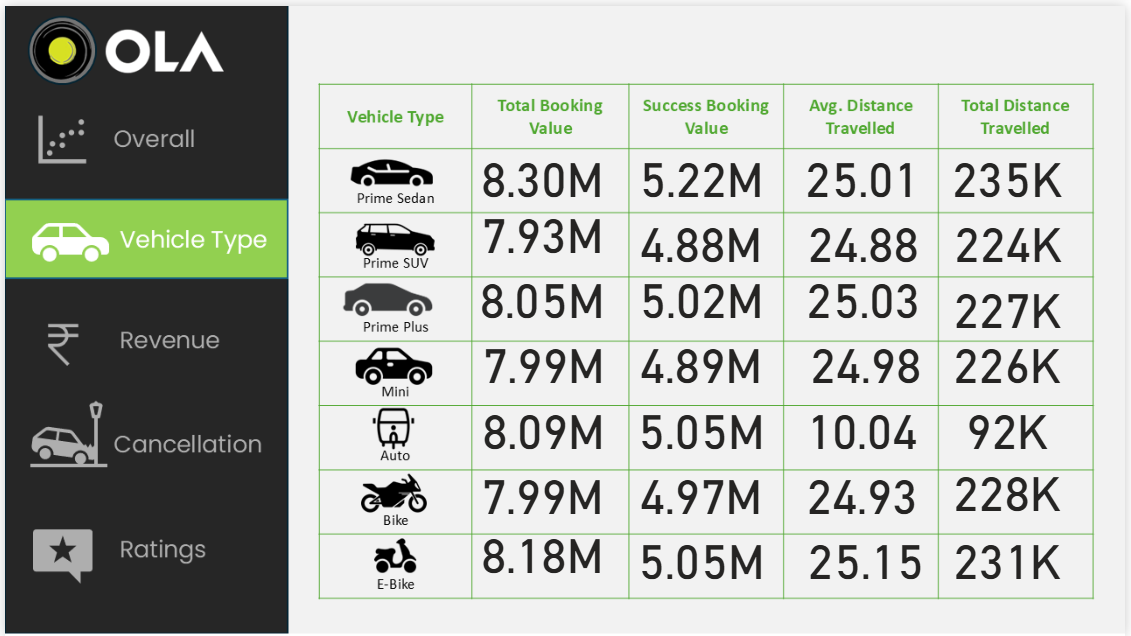

What the dashboard file says about the page in this screenshot:
{"tool":"powerbi","page":{"name":"Vehicle Type","canvas":[1280,720],"ordinal":1},"visuals":[{"type":"actionButton","box":[0,108.1,322.8,116.6],"z":0},{"type":"actionButton","box":[0,315.7,322.8,116.6],"z":1000},{"type":"actionButton","box":[1.4,432.4,322.8,116.6],"z":2000},{"type":"actionButton","box":[0,549,322.8,170.7],"z":3000},{"type":"card","fields":{"Values":["Sum(Bookings (2).Booking_Value)"]},"box":[532.2,165.5,162,74.8],"z":4000},{"type":"card","fields":{"Values":["Sum(Bookings (2).Booking_Value)"]},"box":[532.2,229.6,162,74.8],"z":5000},{"type":"card","fields":{"Values":["Sum(Bookings (2).Booking_Value)"]},"box":[532.2,304.3,162,74.8],"z":6000},{"type":"card","fields":{"Values":["Sum(Bookings (2).Booking_Value)"]},"box":[533.9,379.1,162,74.8],"z":7000},{"type":"card","fields":{"Values":["Sum(Bookings (2).Booking_Value)"]},"box":[533.9,453.8,162,74.8],"z":8000},{"type":"card","fields":{"Values":["Sum(Bookings (2).Booking_Value)"]},"box":[532.2,528.6,162,74.8],"z":9000},{"type":"card","fields":{"Values":["Sum(Bookings (2).Booking_Value)"]},"box":[532.2,596.2,162,74.8],"z":10000},{"type":"card","fields":{"Values":["Sum(Bookings (2).Booking_Value)"]},"box":[713.7,165.5,162,74.8],"z":11000},{"type":"card","fields":{"Values":["Sum(Bookings (2).Booking_Value)"]},"box":[713.7,304.3,162,74.8],"z":12000},{"type":"card","fields":{"Values":["Sum(Bookings (2).Booking_Value)"]},"box":[713.7,379.1,162,74.8],"z":13000},{"type":"card","fields":{"Values":["Sum(Bookings (2).Booking_Value)"]},"box":[713.7,453.8,162,74.8],"z":14000},{"type":"card","fields":{"Values":["Sum(Bookings (2).Booking_Value)"]},"box":[713.7,603.3,162,74.8],"z":15000},{"type":"card","fields":{"Values":["Sum(Bookings (2).Booking_Value)"]},"box":[713.7,240.3,162,74.8],"z":16000},{"type":"card","fields":{"Values":["Sum(Bookings (2).Booking_Value)"]},"box":[713.7,528.6,162,74.8],"z":17000},{"type":"card","fields":{"Values":["Avg(Bookings (2).Ride_Distance)"]},"box":[898.8,165.5,162,74.8],"z":18000},{"type":"card","fields":{"Values":["Avg(Bookings (2).Ride_Distance)"]},"box":[902.4,379.1,162,74.8],"z":19000},{"type":"card","fields":{"Values":["Avg(Bookings (2).Ride_Distance)"]},"box":[898.8,453.8,162,74.8],"z":20000},{"type":"card","fields":{"Values":["Avg(Bookings (2).Ride_Distance)"]},"box":[898.8,528.6,162,74.8],"z":21000},{"type":"card","fields":{"Values":["Avg(Bookings (2).Ride_Distance)"]},"box":[902.4,603.3,162,74.8],"z":22000},{"type":"card","fields":{"Values":["Avg(Bookings (2).Ride_Distance)"]},"box":[900.6,304.3,162,74.8],"z":23000},{"type":"card","fields":{"Values":["Avg(Bookings (2).Ride_Distance)"]},"box":[900.6,240.3,162,74.8],"z":24000},{"type":"card","fields":{"Values":["Sum(Bookings (2).Ride_Distance)"]},"box":[1064.3,165.5,162,74.8],"z":25000},{"type":"card","fields":{"Values":["Sum(Bookings (2).Ride_Distance)"]},"box":[1048.3,240.3,195.8,74.8],"z":26000},{"type":"card","fields":{"Values":["Sum(Bookings (2).Ride_Distance)"]},"box":[1048.3,315,194,74.8],"z":27000},{"type":"card","fields":{"Values":["Sum(Bookings (2).Ride_Distance)"]},"box":[1064.3,379.1,162,74.8],"z":28000},{"type":"card","fields":{"Values":["Sum(Bookings (2).Ride_Distance)"]},"box":[1064.3,453.8,162,74.8],"z":29000},{"type":"card","fields":{"Values":["Sum(Bookings (2).Ride_Distance)"]},"box":[1064.3,528.6,162,67.6],"z":30000},{"type":"card","fields":{"Values":["Sum(Bookings (2).Ride_Distance)"]},"box":[1064.3,603.3,162,74.8],"z":31000}]}

Visuals, with their boxes on the page's 1280x720 design canvas (x1, y1, x2, y2). These are canvas units, not pixel positions in the 1131x636 screenshot, which may show the page scaled, cropped or inside an application window:
actionButton: locate(0, 108, 323, 225)
actionButton: locate(0, 316, 323, 432)
actionButton: locate(1, 432, 324, 549)
actionButton: locate(0, 549, 323, 720)
card - Sum(Bookings (2).Booking_Value): locate(532, 166, 694, 240)
card - Sum(Bookings (2).Booking_Value): locate(532, 230, 694, 304)
card - Sum(Bookings (2).Booking_Value): locate(532, 304, 694, 379)
card - Sum(Bookings (2).Booking_Value): locate(534, 379, 696, 454)
card - Sum(Bookings (2).Booking_Value): locate(534, 454, 696, 529)
card - Sum(Bookings (2).Booking_Value): locate(532, 529, 694, 603)
card - Sum(Bookings (2).Booking_Value): locate(532, 596, 694, 671)
card - Sum(Bookings (2).Booking_Value): locate(714, 166, 876, 240)
card - Sum(Bookings (2).Booking_Value): locate(714, 304, 876, 379)
card - Sum(Bookings (2).Booking_Value): locate(714, 379, 876, 454)
card - Sum(Bookings (2).Booking_Value): locate(714, 454, 876, 529)
card - Sum(Bookings (2).Booking_Value): locate(714, 603, 876, 678)
card - Sum(Bookings (2).Booking_Value): locate(714, 240, 876, 315)
card - Sum(Bookings (2).Booking_Value): locate(714, 529, 876, 603)
card - Avg(Bookings (2).Ride_Distance): locate(899, 166, 1061, 240)
card - Avg(Bookings (2).Ride_Distance): locate(902, 379, 1064, 454)
card - Avg(Bookings (2).Ride_Distance): locate(899, 454, 1061, 529)
card - Avg(Bookings (2).Ride_Distance): locate(899, 529, 1061, 603)
card - Avg(Bookings (2).Ride_Distance): locate(902, 603, 1064, 678)
card - Avg(Bookings (2).Ride_Distance): locate(901, 304, 1063, 379)
card - Avg(Bookings (2).Ride_Distance): locate(901, 240, 1063, 315)
card - Sum(Bookings (2).Ride_Distance): locate(1064, 166, 1226, 240)
card - Sum(Bookings (2).Ride_Distance): locate(1048, 240, 1244, 315)
card - Sum(Bookings (2).Ride_Distance): locate(1048, 315, 1242, 390)
card - Sum(Bookings (2).Ride_Distance): locate(1064, 379, 1226, 454)
card - Sum(Bookings (2).Ride_Distance): locate(1064, 454, 1226, 529)
card - Sum(Bookings (2).Ride_Distance): locate(1064, 529, 1226, 596)
card - Sum(Bookings (2).Ride_Distance): locate(1064, 603, 1226, 678)
